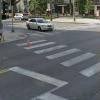Crosswalk: (21, 34, 99, 79)
